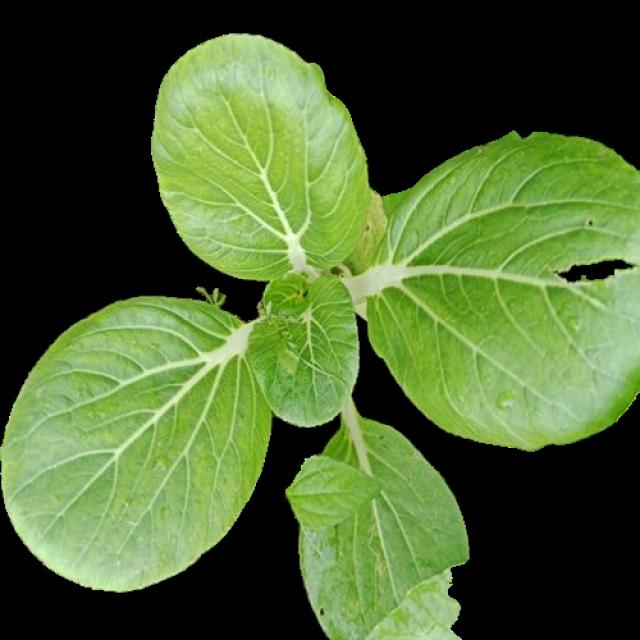not-mature: (4, 32, 640, 636)
unhealthy: (365, 135, 640, 453), (286, 414, 469, 638)
